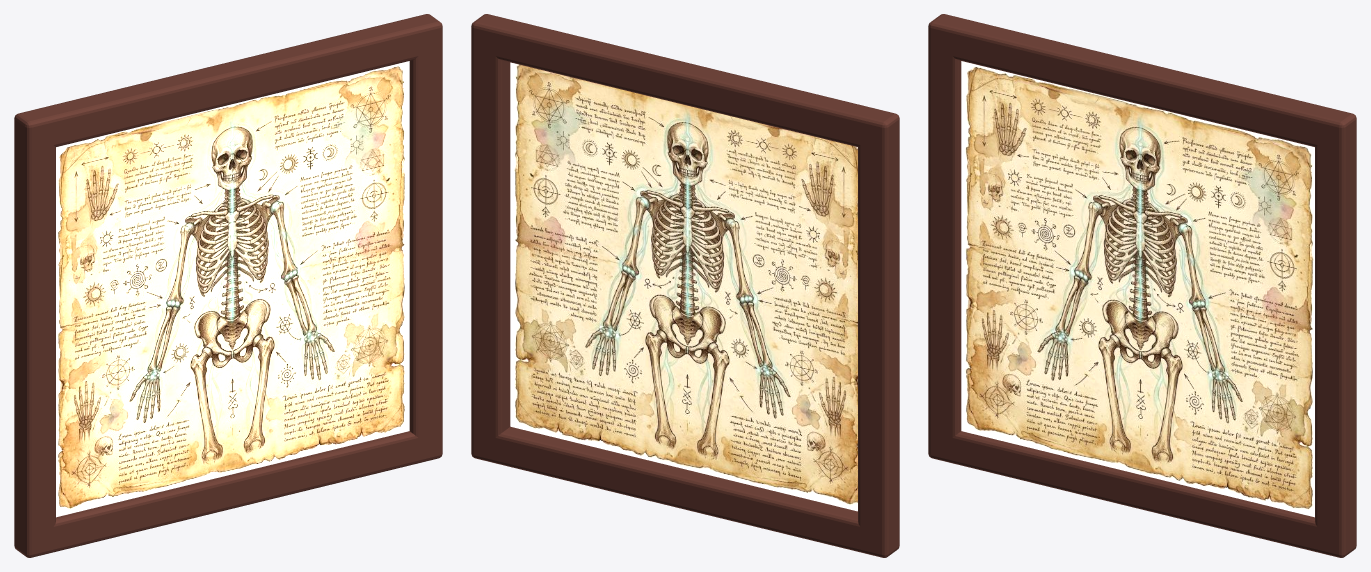
The model's file is art_anatomy_study.glb.
3 renders of one model, left to right at view 1: azimuth 30°, elevation 25°; view 2: azimuth 150°, elevation 25°; view 3: azimuth 330°, elevation 25°, orthographic.
Visible parts, largest first — view 1: GD_art_anatomy_study__m0, GD_art_anatomy_study__m1; view 2: GD_art_anatomy_study__m0, GD_art_anatomy_study__m1; view 3: GD_art_anatomy_study__m0, GD_art_anatomy_study__m1.
Boxes of the visible parts, <box> form: GD_art_anatomy_study__m0: <box>56,61,409,517</box>; GD_art_anatomy_study__m1: <box>14,14,442,557</box>; GD_art_anatomy_study__m0: <box>510,62,857,511</box>; GD_art_anatomy_study__m1: <box>471,14,899,557</box>; GD_art_anatomy_study__m0: <box>961,61,1314,517</box>; GD_art_anatomy_study__m1: <box>928,14,1356,557</box>.
Bounding box in the file's own units: 0.96 × 0.96 × 0.06.
2 materials, 1 textured.
